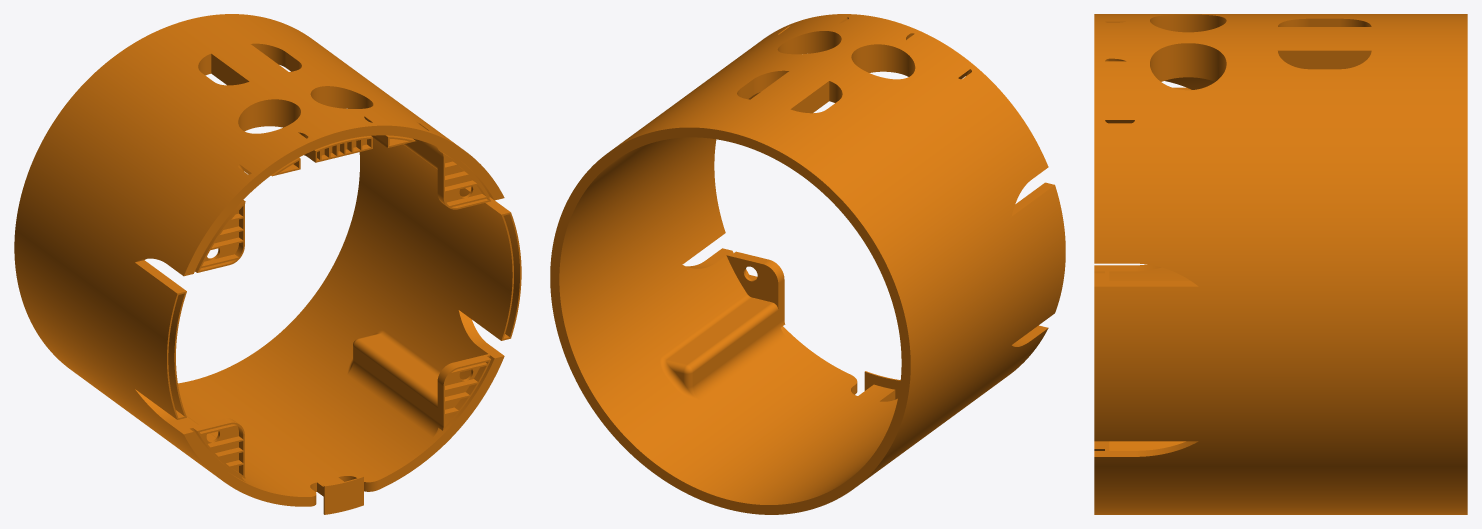
File: Carcazav3.obj
The picture shows the model from 3 angles, left to right: view 1: azimuth 30°, elevation 25°; view 2: azimuth 150°, elevation 25°; view 3: azimuth 270°, elevation 25°; orthographic projection. The views are drawn at different scales.
Visible parts, largest first — view 1: Sólido1; view 2: Sólido1; view 3: Sólido1.
Part boxes in pixels (bbox=[...]): Sólido1: bbox=[14, 14, 521, 514]; Sólido1: bbox=[550, 14, 1065, 514]; Sólido1: bbox=[1094, 14, 1467, 514].
Bounding box in the file's own units: 118 × 120 × 87.5.
